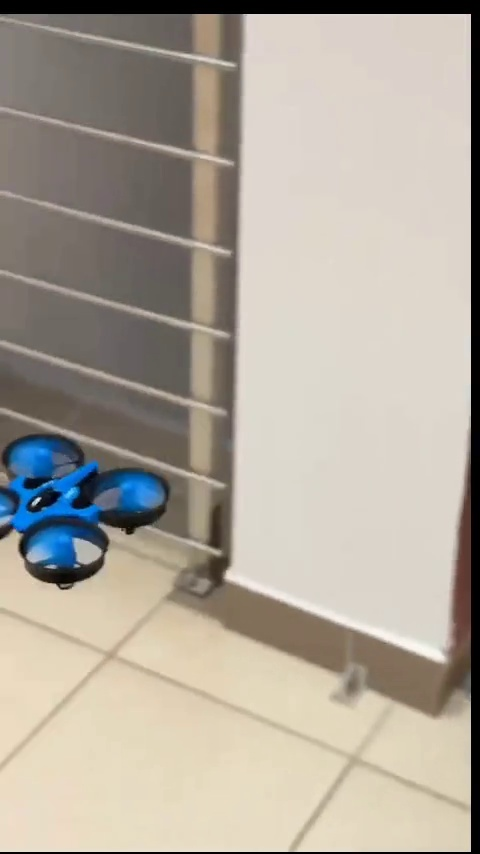drone: (0, 432, 165, 580)
